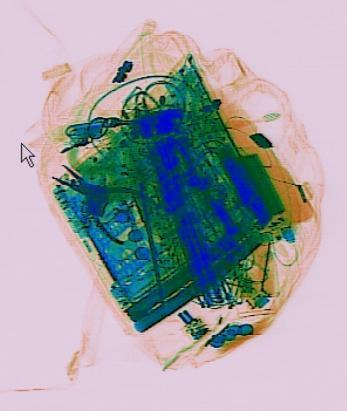Pliers: (41, 144, 161, 254)
